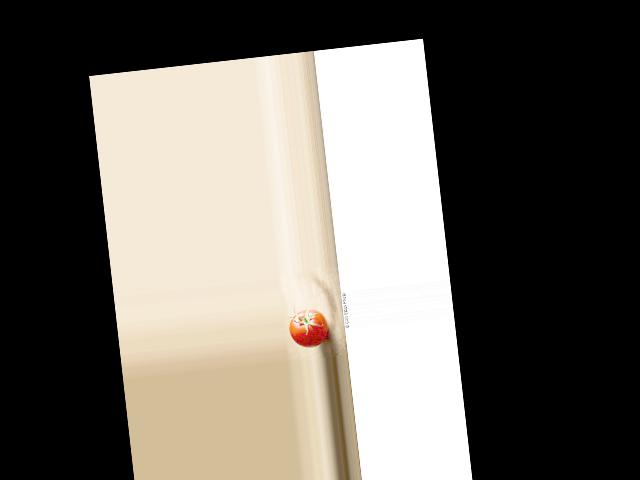tomato: (288, 306, 329, 349)
